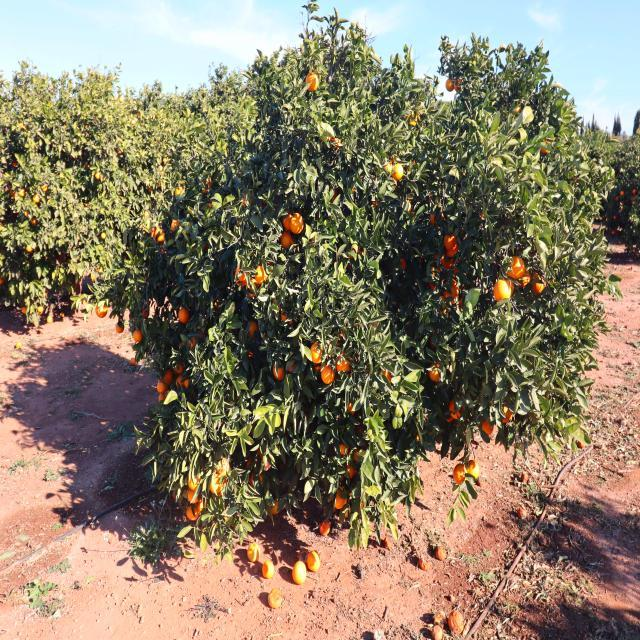Jeruk Sudah Matang: (493, 278, 510, 302), (508, 258, 525, 278), (404, 107, 420, 128), (336, 354, 352, 372), (217, 457, 230, 478), (449, 400, 464, 418), (312, 342, 324, 364), (380, 367, 396, 383), (291, 212, 303, 233), (446, 281, 460, 299), (306, 72, 319, 91), (322, 364, 334, 384), (334, 490, 347, 508), (429, 363, 441, 382), (256, 266, 267, 286), (430, 208, 440, 230), (502, 406, 514, 424), (534, 276, 546, 294), (540, 138, 552, 156), (440, 254, 454, 269), (186, 503, 199, 519), (240, 192, 253, 208), (392, 163, 404, 180), (274, 362, 284, 381), (211, 473, 220, 494), (482, 417, 493, 434), (282, 231, 292, 249), (444, 233, 456, 248), (204, 179, 214, 197), (446, 243, 458, 257), (518, 272, 532, 284), (248, 321, 258, 337), (95, 304, 108, 316), (383, 161, 394, 174), (178, 308, 188, 322), (155, 228, 165, 242), (164, 368, 172, 385), (338, 442, 349, 454), (174, 187, 185, 199), (188, 491, 198, 504), (398, 258, 408, 271), (132, 330, 142, 342), (284, 216, 292, 230), (454, 78, 462, 92), (188, 478, 198, 489), (157, 381, 166, 393), (270, 501, 278, 514), (236, 269, 246, 279), (176, 376, 184, 388), (446, 78, 454, 90), (115, 323, 124, 333), (171, 220, 180, 230), (182, 378, 188, 391), (175, 364, 183, 372), (158, 394, 166, 402), (433, 282, 437, 292), (619, 190, 625, 196), (632, 188, 637, 195)
